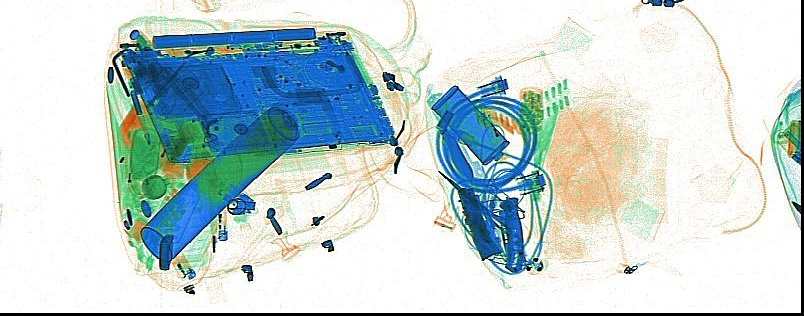knife: (455, 185, 504, 261), (497, 195, 527, 272), (441, 128, 473, 180), (157, 233, 175, 271)
lighter: (169, 248, 196, 280), (214, 206, 228, 241)
pressure: (139, 106, 300, 262)
scissors: (437, 170, 524, 242)
zippooil: (429, 84, 509, 165)
